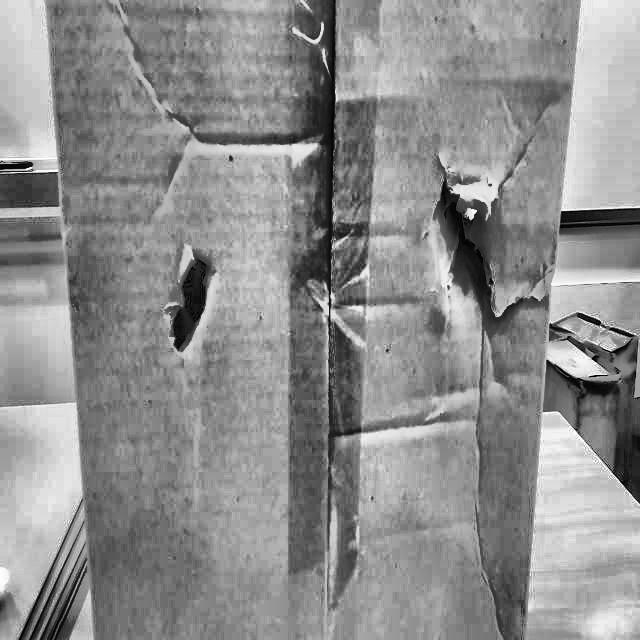box: (32, 0, 605, 639)
hole: (430, 142, 540, 330), (166, 242, 218, 368)
